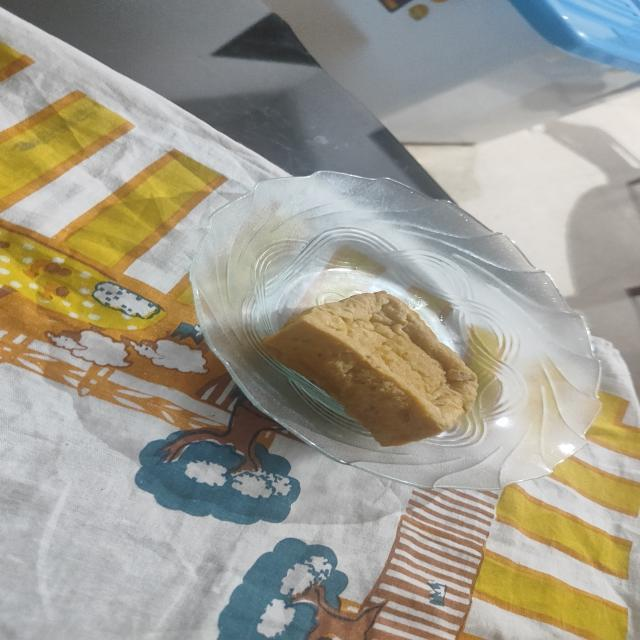tahu_goreng: (262, 291, 478, 446)
